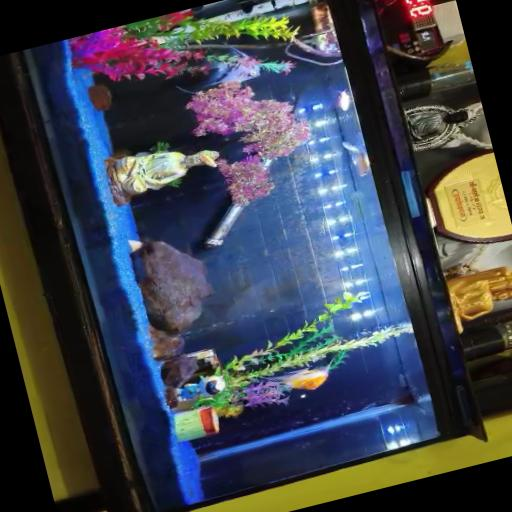Fish: (178, 48, 259, 92), (265, 365, 328, 389), (341, 141, 369, 175), (337, 90, 350, 110)
